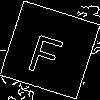F: (24, 25, 68, 78)
